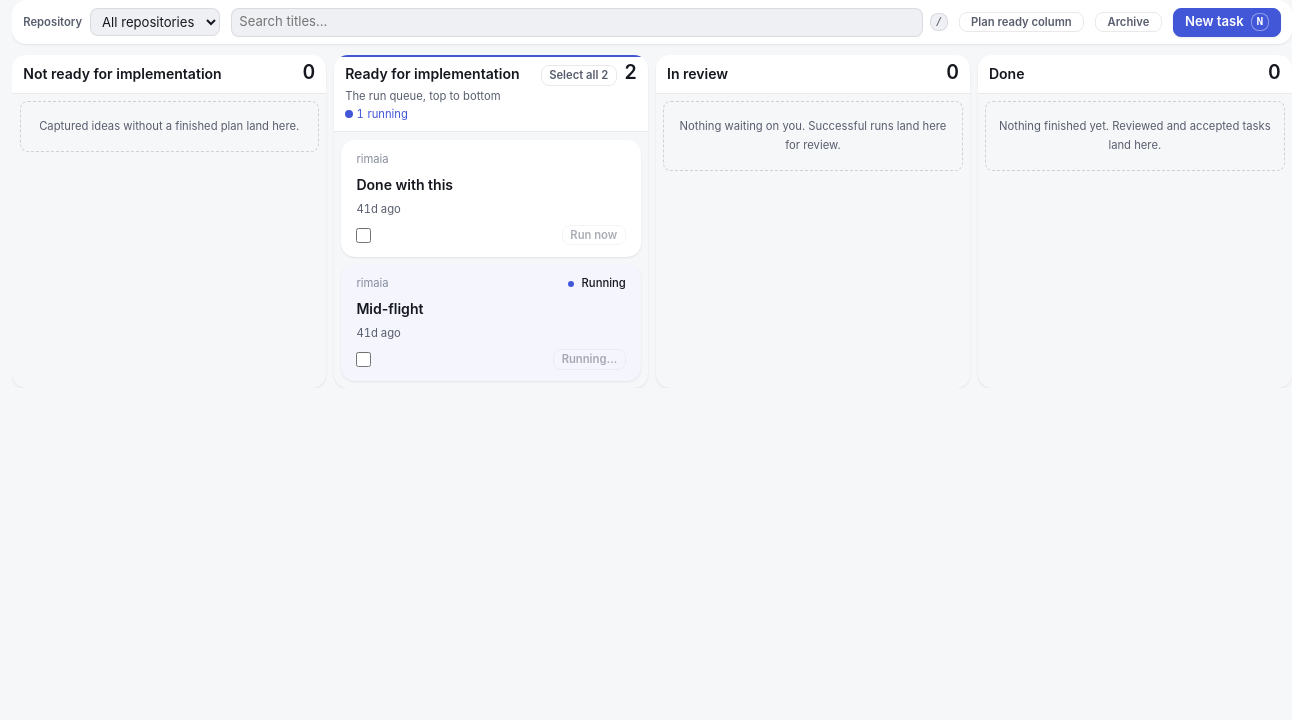
Board › archives the picked cards and reports what was refused
The image size is (1292, 720).
Click the checkbox named "Select \"Done with this\"" at (364, 235), box [356,228,371,243]
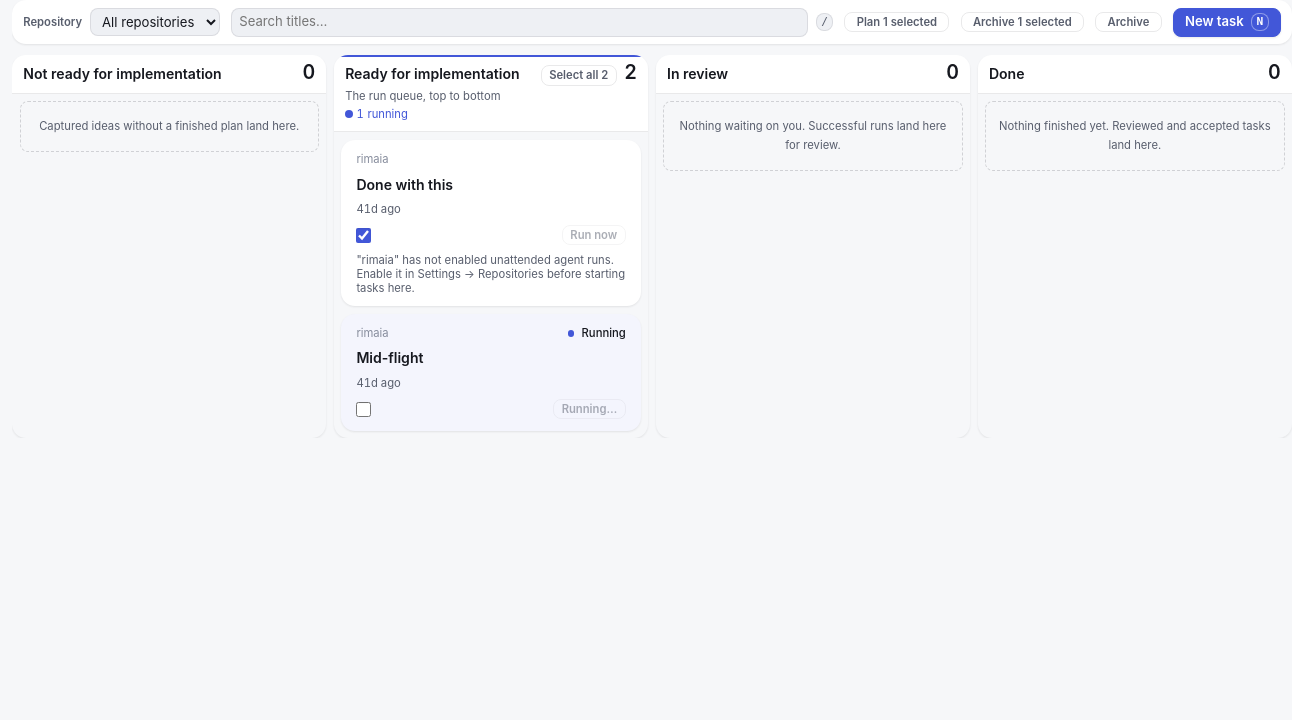
Click the checkbox named "Select \"Mid-flight\"" at (364, 409), box [356,402,371,417]
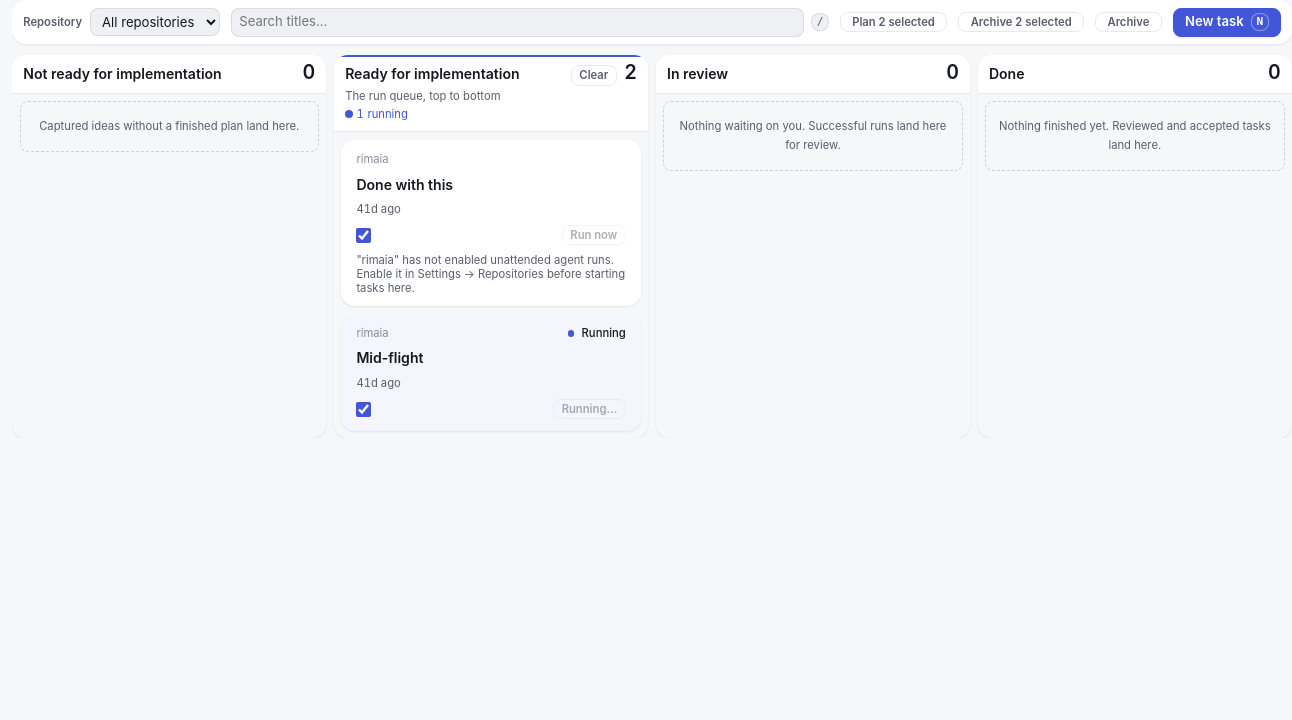
Click the button "Archive 2 selected" at (1021, 22), box [958,12,1084,32]
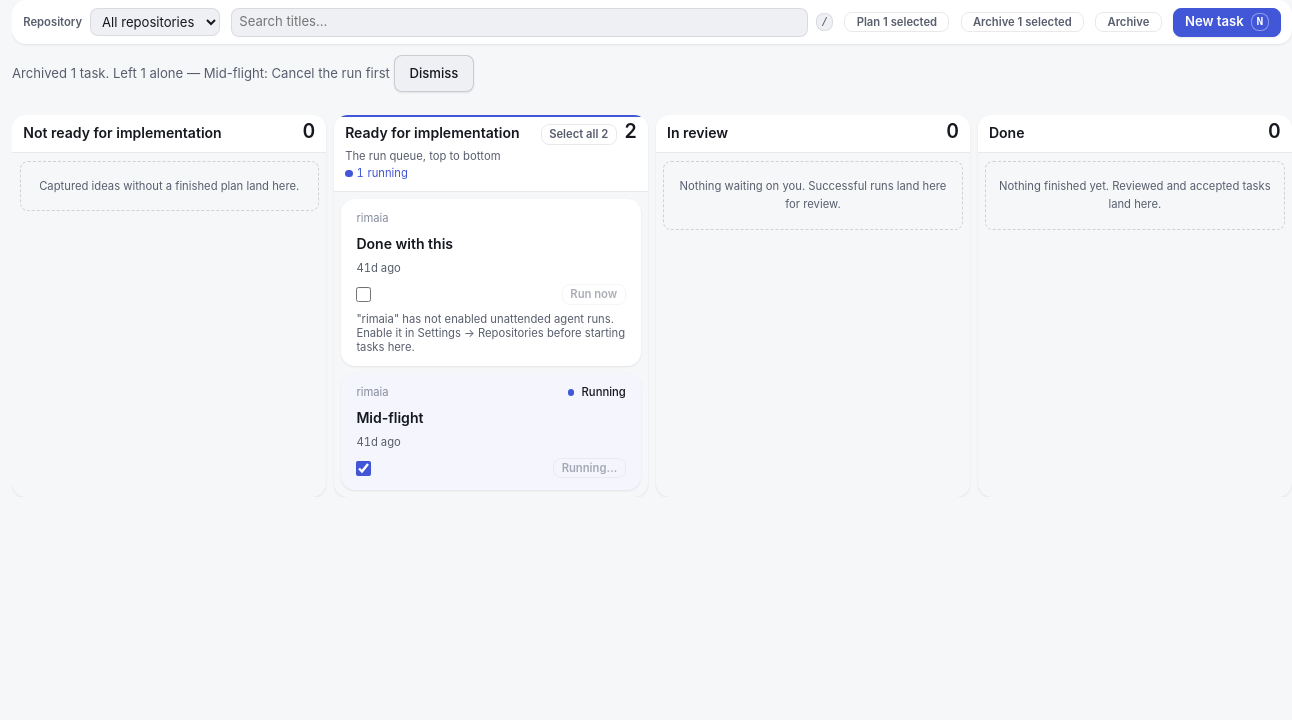
Check: the text "Archived 1 task. Left 1 alone — Mid-flight: Cancel the run first Dismiss" is shown, box [12,55,474,92]
